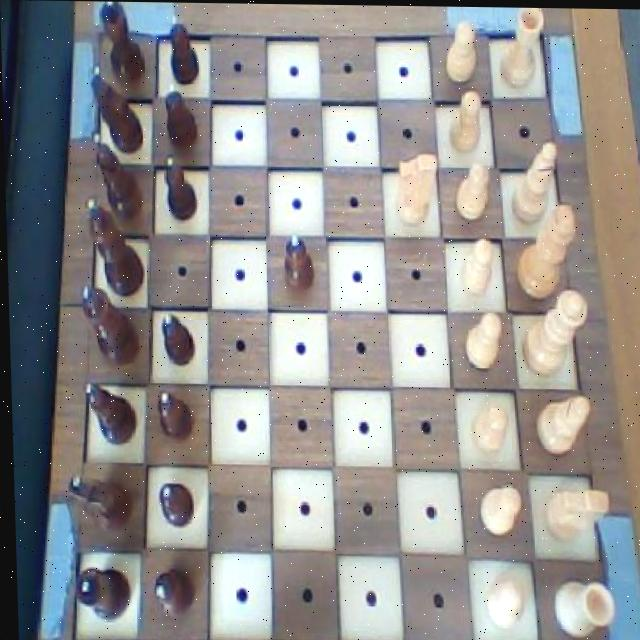bishop: (88, 130, 145, 222), (81, 378, 136, 449)
black-bishop: (81, 195, 145, 300)
black-king: (84, 62, 147, 159), (61, 471, 128, 533)
black-knight: (159, 81, 199, 156), (153, 306, 199, 371), (148, 562, 196, 624), (165, 10, 202, 89), (150, 386, 198, 445), (161, 152, 199, 224), (276, 232, 314, 293), (154, 477, 192, 531)
black-pawn: (76, 281, 141, 374)
black-queen: (97, 1, 150, 88), (72, 562, 131, 623)
black-rook: (504, 133, 561, 225), (523, 391, 592, 460)
white-bishop: (511, 197, 578, 303)
white-king: (537, 481, 611, 551), (386, 144, 442, 228)
white-knight: (469, 473, 525, 541), (444, 80, 488, 156), (458, 302, 504, 374), (453, 230, 498, 299), (449, 154, 494, 223), (441, 13, 483, 86), (465, 397, 511, 459), (477, 574, 526, 632)
white-pawn: (514, 283, 590, 384)
white-queen: (547, 572, 618, 640), (495, 6, 550, 91)
